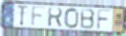B: (80, 8, 97, 30)
F: (30, 5, 48, 28), (96, 8, 113, 31)
O: (63, 7, 80, 29)
R: (47, 6, 64, 28)
T: (16, 4, 29, 28)
